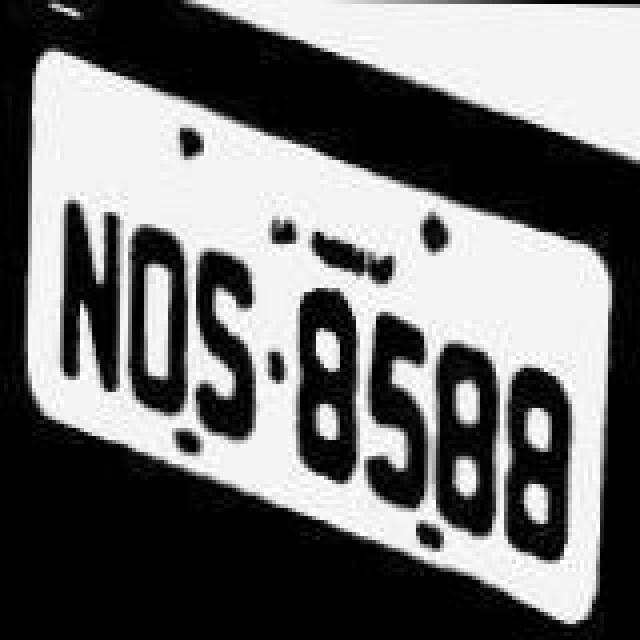5: (354, 298, 434, 514)
8: (502, 328, 582, 576), (426, 324, 506, 536), (286, 288, 366, 496)
N: (44, 138, 124, 398)
O: (122, 204, 198, 416)
S: (190, 244, 274, 440)
